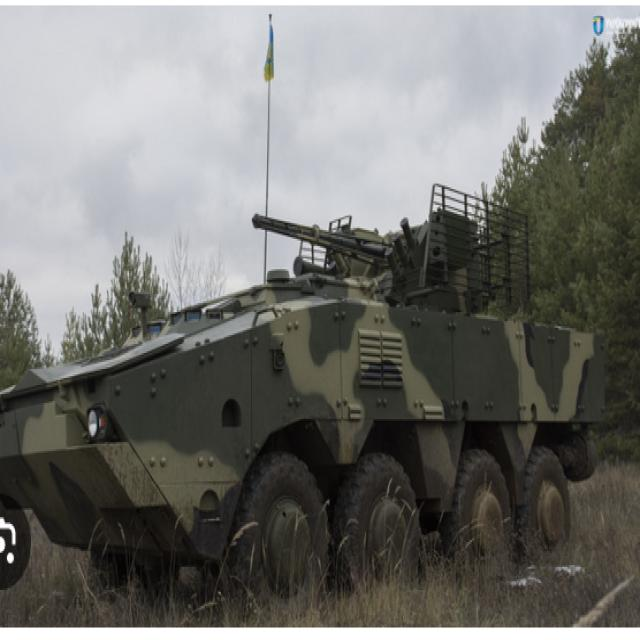MIL_APC: (8, 208, 630, 618)
